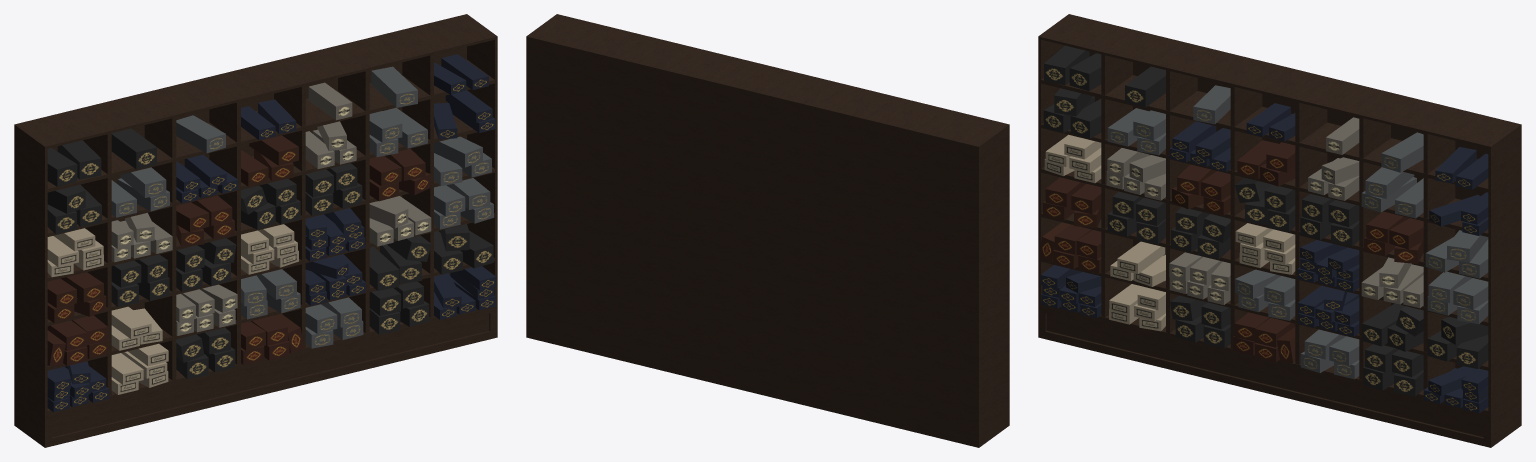
File: shelfBigWithWands2.glb
3 views of the same model, side by side, from view 1: azimuth 30°, elevation 25°; view 2: azimuth 150°, elevation 25°; view 3: azimuth 330°, elevation 25° (orthographic).
Parts seen in each view (by area): view 1: ShelfBigWithWands2; view 2: ShelfBigWithWands2; view 3: ShelfBigWithWands2.
Boxes of the visible parts, box(x1,y1,x2,y2) form: ShelfBigWithWands2: box(14, 14, 497, 447); ShelfBigWithWands2: box(526, 14, 1009, 447); ShelfBigWithWands2: box(1038, 14, 1521, 447).
Size of what is drawn, in the model's own units: 8.42 by 5.35 by 1.21.
Materials: 2 (2 with a texture image).
